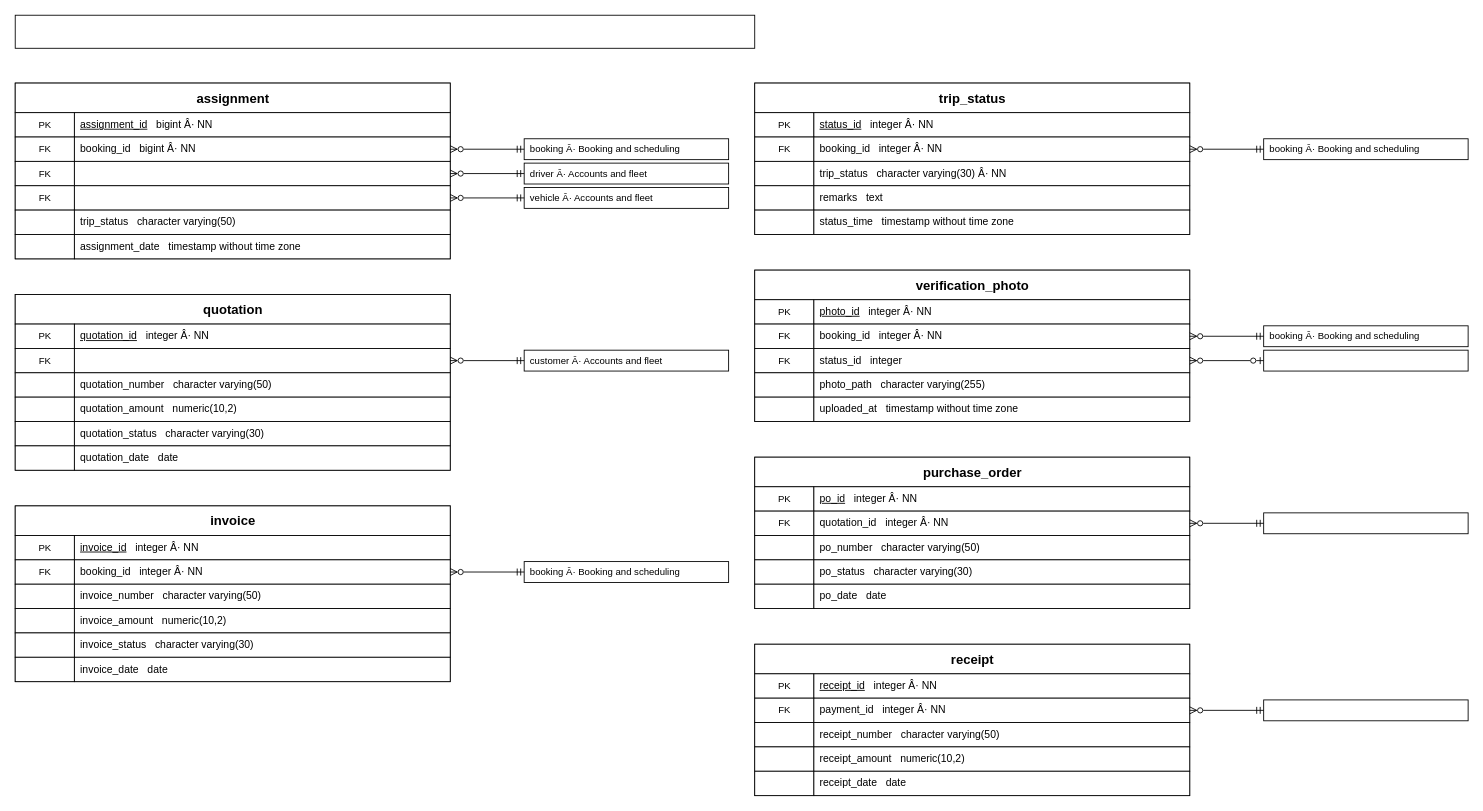
The diagram is 1483 pixels wide and 811 high, and some of its shapes have lost their labels. The box of each missing label's shape, as (x1, y1, x2, y2) in pixels:
cust_id integer Â· NN: (74, 348, 450, 373)
driver_id bigint Â· NN: (74, 161, 450, 186)
Legacy records â€” DilaDrive PostgreSQL: (14, 14, 755, 48)
payment Â· Documents and finance: (1263, 699, 1468, 721)
quotation Â· Legacy records: (1263, 512, 1468, 534)
trip_status Â· Legacy records: (1263, 349, 1468, 371)
vehicle_id bigint Â· NN: (74, 185, 450, 210)
